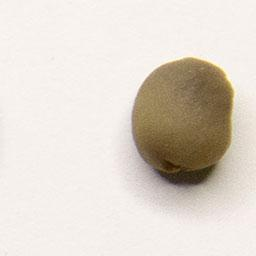peaberry: (128, 54, 237, 178)
